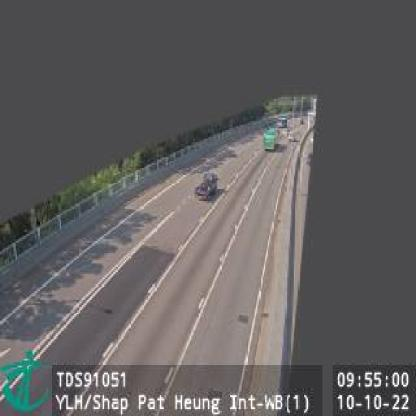Car: (196, 172, 218, 200)
Truck: (262, 126, 278, 151)
